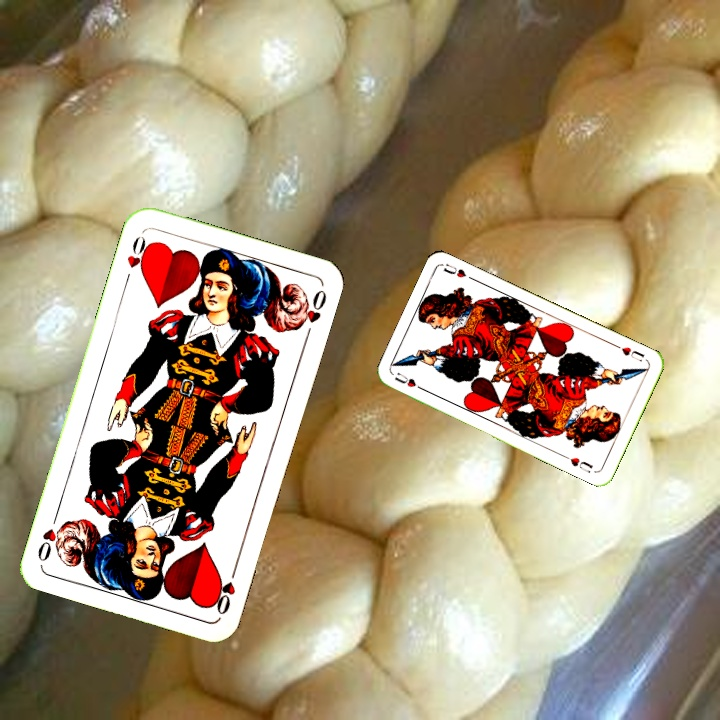HO: (120, 231, 154, 287), (208, 561, 241, 618)
HU: (390, 368, 428, 394), (611, 341, 647, 364)
